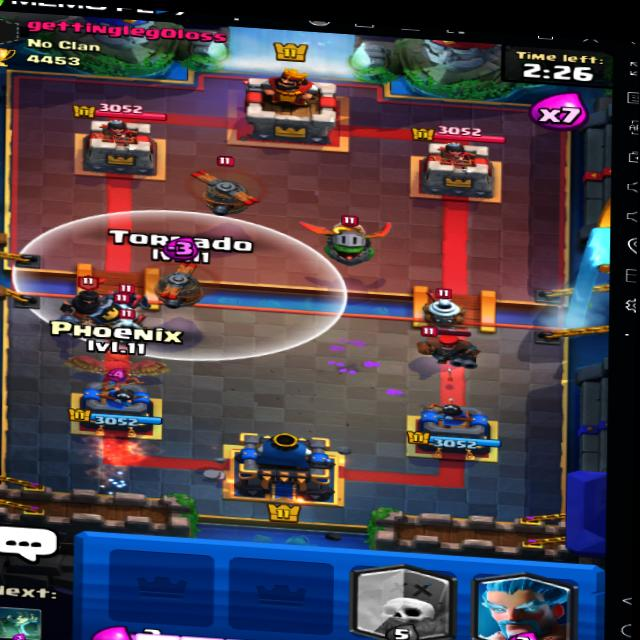dark-prince: (54, 273, 130, 333)
flying-machine: (134, 250, 243, 317), (180, 157, 267, 217)
hunter: (411, 318, 485, 370)
inferno-dragon: (301, 211, 390, 267)
mini-pekka: (97, 267, 172, 312)
zappie: (416, 286, 468, 327), (105, 305, 159, 343), (101, 292, 151, 330)
